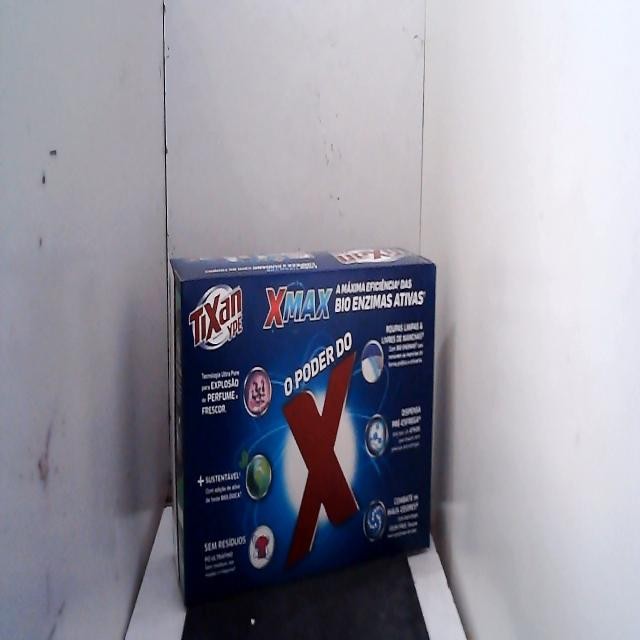paper: (160, 232, 439, 590)
